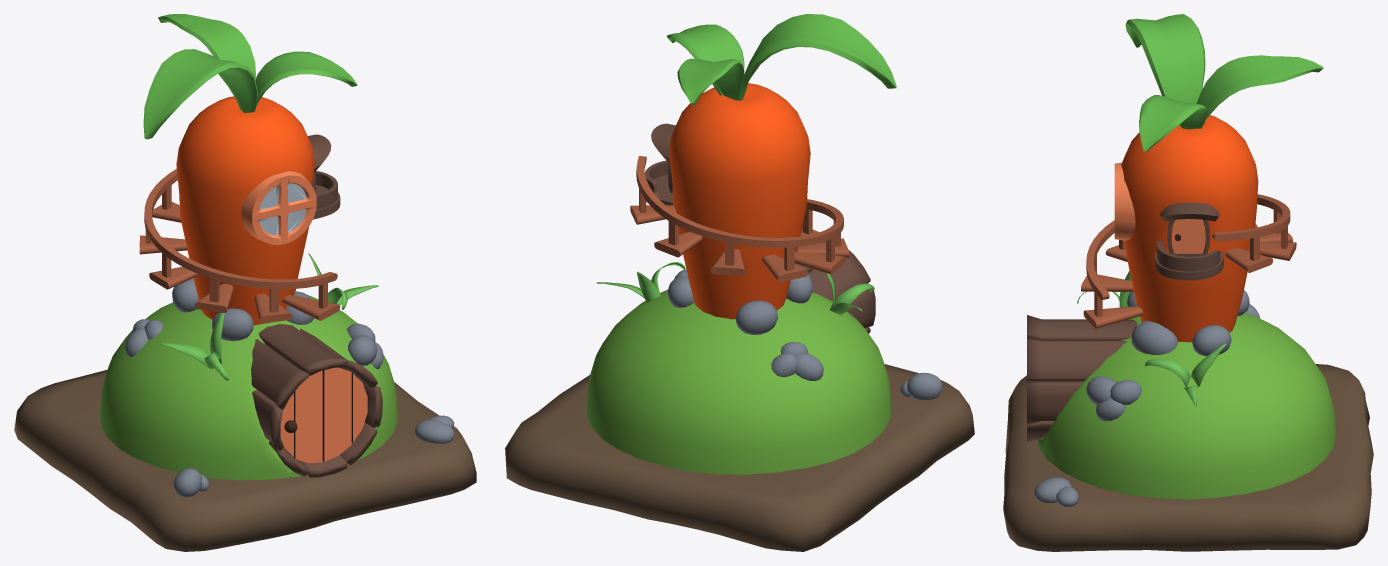
The model's file is Carrot House.fbx.
3 views of the same model, side by side, from view 1: azimuth 30°, elevation 25°; view 2: azimuth 150°, elevation 25°; view 3: azimuth 270°, elevation 25° (orthographic). The views are drawn at different scales.
Parts seen in each view (by area): view 1: Carrot House, Carrot House.001, Carrot House.006, Carrot House.002, Carrot House.003, Carrot House.004; view 2: Carrot House, Carrot House.001, Carrot House.002, Carrot House.006, Carrot House.004; view 3: Carrot House, Carrot House.001, Carrot House.006, Carrot House.002, Carrot House.004, Carrot House.005.
Part boxes in pixels (left/top/right/bottom): Carrot House: left=14, top=294, right=476, bottom=551; Carrot House.001: left=143, top=14, right=357, bottom=325; Carrot House.006: left=125, top=253, right=454, bottom=497; Carrot House.002: left=139, top=168, right=340, bottom=323; Carrot House.003: left=280, top=367, right=367, bottom=463; Carrot House.004: left=308, top=134, right=340, bottom=219; Carrot House: left=505, top=241, right=974, bottom=551; Carrot House.001: left=667, top=14, right=896, bottom=319; Carrot House.002: left=630, top=156, right=849, bottom=282; Carrot House.006: left=597, top=262, right=942, bottom=399; Carrot House.004: left=645, top=123, right=675, bottom=205; Carrot House: left=1003, top=312, right=1373, bottom=551; Carrot House.001: left=1114, top=14, right=1323, bottom=342; Carrot House.006: left=1034, top=271, right=1260, bottom=507; Carrot House.002: left=1081, top=194, right=1296, bottom=328; Carrot House.004: left=1155, top=202, right=1223, bottom=280; Carrot House.005: left=1171, top=219, right=1205, bottom=253.
Size of the model in its own units: 8.46 by 10.78 by 8.54.
